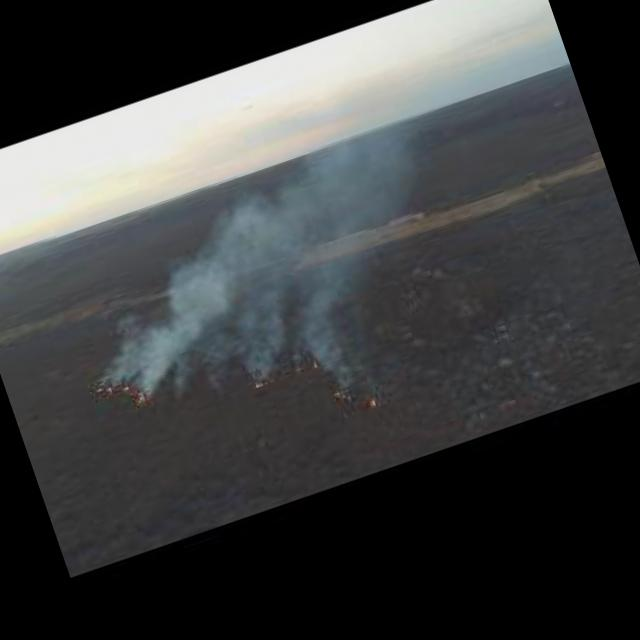fire: (118, 382, 148, 409), (93, 382, 112, 397), (252, 377, 272, 390), (367, 396, 378, 406)
smoke: (149, 94, 465, 338), (103, 285, 215, 391), (300, 306, 370, 398), (234, 290, 302, 368)
